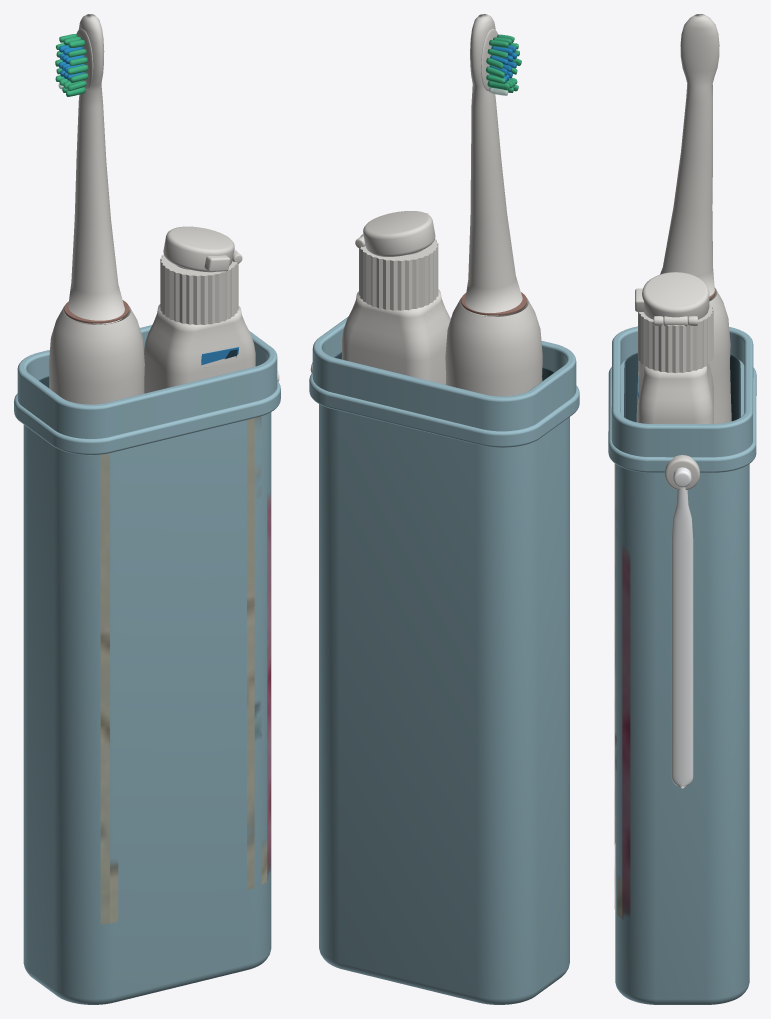
The model's file is toothbrush_cup_uv2.glb.
The picture shows the model from 3 angles, left to right: view 1: azimuth 30°, elevation 25°; view 2: azimuth 150°, elevation 25°; view 3: azimuth 270°, elevation 25°; orthographic projection. The views are drawn at different scales.
Visible parts, largest first — view 1: cup_shell, cup_front_decal, cup_rim_upper, toothbrush_head, toothbrush_body, mouthwash_bottle, cup_rim_lower, mouthwash_cap, mouthwash_flip_lid, bristle_green_cluster; view 2: cup_shell, cup_rim_upper, toothbrush_head, toothbrush_body, mouthwash_bottle, cup_rim_lower, mouthwash_cap, mouthwash_flip_lid, bristle_green_cluster; view 3: cup_shell, toothbrush_head, cup_rim_upper, side_tool, cup_front_decal, mouthwash_bottle, mouthwash_cap, mouthwash_flip_lid, cup_rim_lower, toothbrush_body, cup_inner_liner, side_tool_mount.
Part boxes in pixels (bbox=[...]): cup_shell: bbox=[23, 412, 271, 1004]; cup_front_decal: bbox=[100, 416, 270, 924]; cup_rim_upper: bbox=[17, 325, 277, 438]; toothbrush_head: bbox=[68, 14, 124, 324]; toothbrush_body: bbox=[48, 305, 144, 404]; mouthwash_bottle: bbox=[143, 304, 255, 393]; cup_rim_lower: bbox=[14, 381, 280, 455]; mouthwash_cap: bbox=[160, 254, 238, 324]; mouthwash_flip_lid: bbox=[163, 226, 234, 272]; bristle_green_cluster: bbox=[55, 34, 88, 96]; cup_shell: bbox=[319, 404, 569, 1004]; cup_rim_upper: bbox=[312, 317, 576, 431]; toothbrush_head: bbox=[465, 14, 522, 316]; toothbrush_body: bbox=[445, 297, 542, 396]; mouthwash_bottle: bbox=[342, 289, 450, 384]; cup_rim_lower: bbox=[309, 373, 579, 447]; mouthwash_cap: bbox=[359, 239, 438, 310]; mouthwash_flip_lid: bbox=[363, 211, 435, 256]; bristle_green_cluster: bbox=[486, 34, 521, 92]; cup_shell: bbox=[615, 360, 749, 1004]; toothbrush_head: bbox=[660, 14, 719, 296]; cup_rim_upper: bbox=[611, 326, 753, 457]; side_tool: bbox=[671, 487, 693, 788]; cup_front_decal: bbox=[614, 463, 630, 918]; mouthwash_bottle: bbox=[638, 364, 713, 423]; mouthwash_cap: bbox=[638, 303, 713, 373]; mouthwash_flip_lid: bbox=[642, 272, 709, 319]; cup_rim_lower: bbox=[608, 367, 756, 472]; toothbrush_body: bbox=[636, 288, 731, 423]; cup_inner_liner: bbox=[624, 353, 740, 421]; side_tool_mount: bbox=[665, 455, 699, 489].
Size of the model in its own units: 0.0795 by 0.3015 by 0.044.
12 materials, 2 textured.
